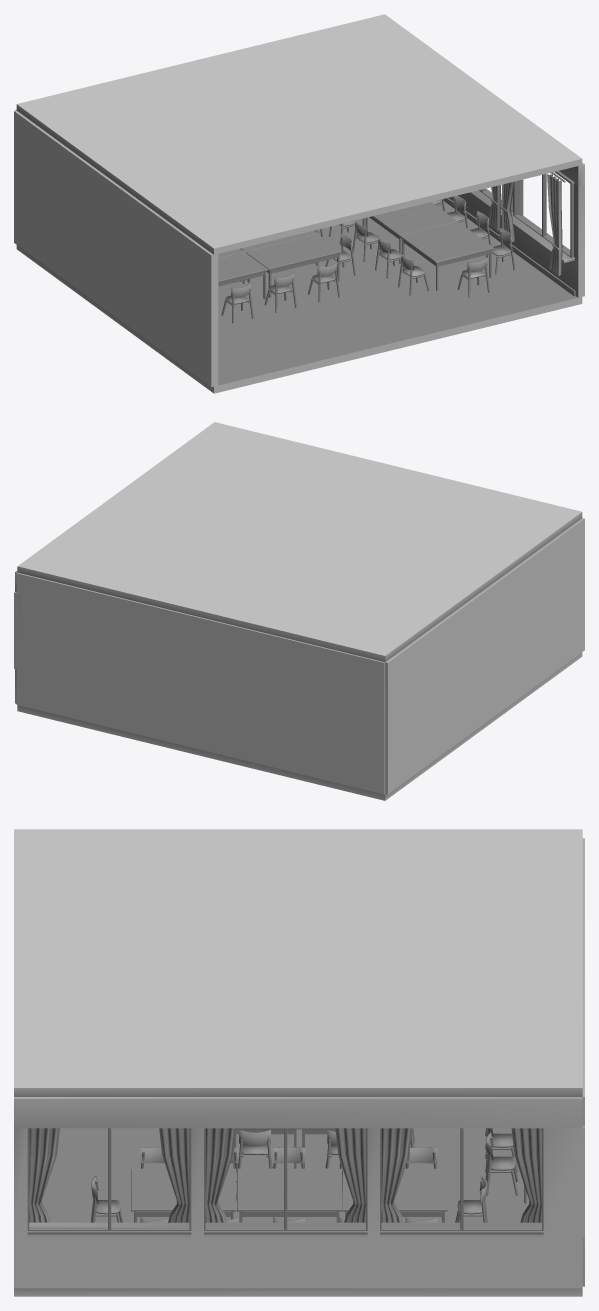
Rendered from classroom-white-v1.glb.
3 renders of one model, top to bottom at view 1: azimuth 30°, elevation 25°; view 2: azimuth 150°, elevation 25°; view 3: azimuth 270°, elevation 25°, orthographic. The views are drawn at different scales.
Parts seen in each view (by area): view 1: Classroom_white_mobile; view 2: Classroom_white_mobile; view 3: Classroom_white_mobile.
Boxes of the visible parts, x1=… form: Classroom_white_mobile: x1=14, y1=14, x2=584, y2=393; Classroom_white_mobile: x1=14, y1=422, x2=584, y2=800; Classroom_white_mobile: x1=14, y1=829, x2=584, y2=1296.
Bounding box in the file's own units: 9.94 × 3.69 × 9.14.
Materials: 1 (1 with a texture image).
